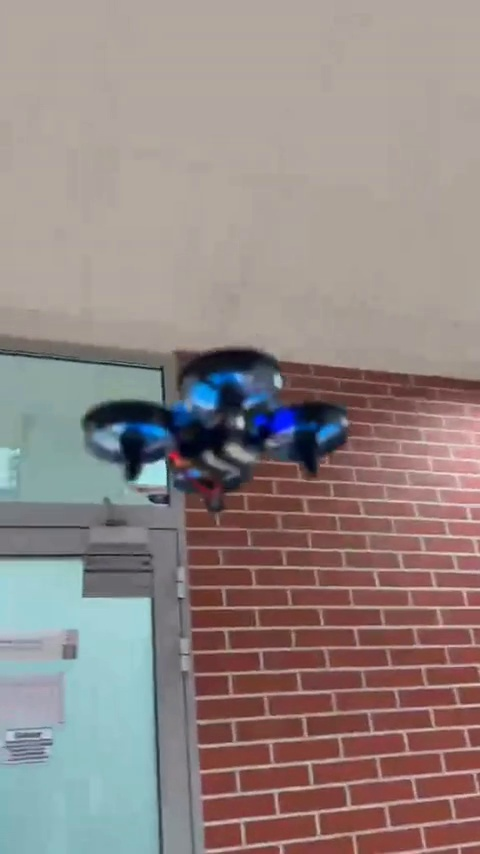drone: (86, 349, 358, 509)
